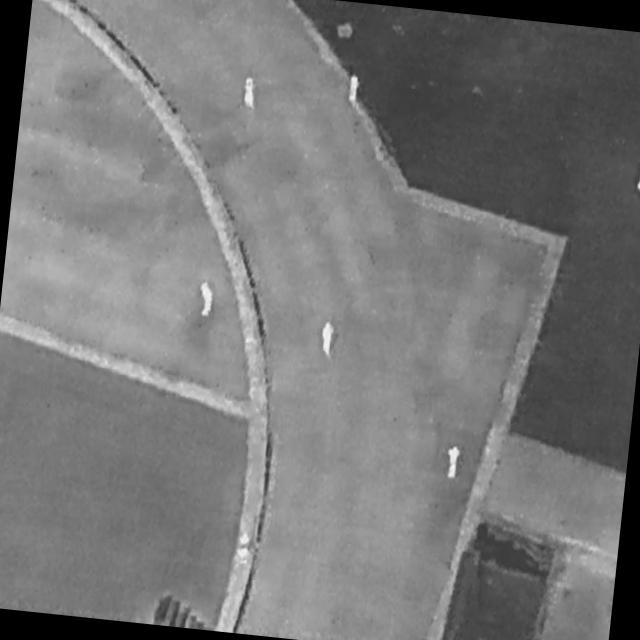person: (196, 281, 216, 320), (445, 443, 462, 483), (319, 322, 337, 359), (241, 76, 259, 111), (347, 73, 361, 108), (638, 160, 640, 192)
